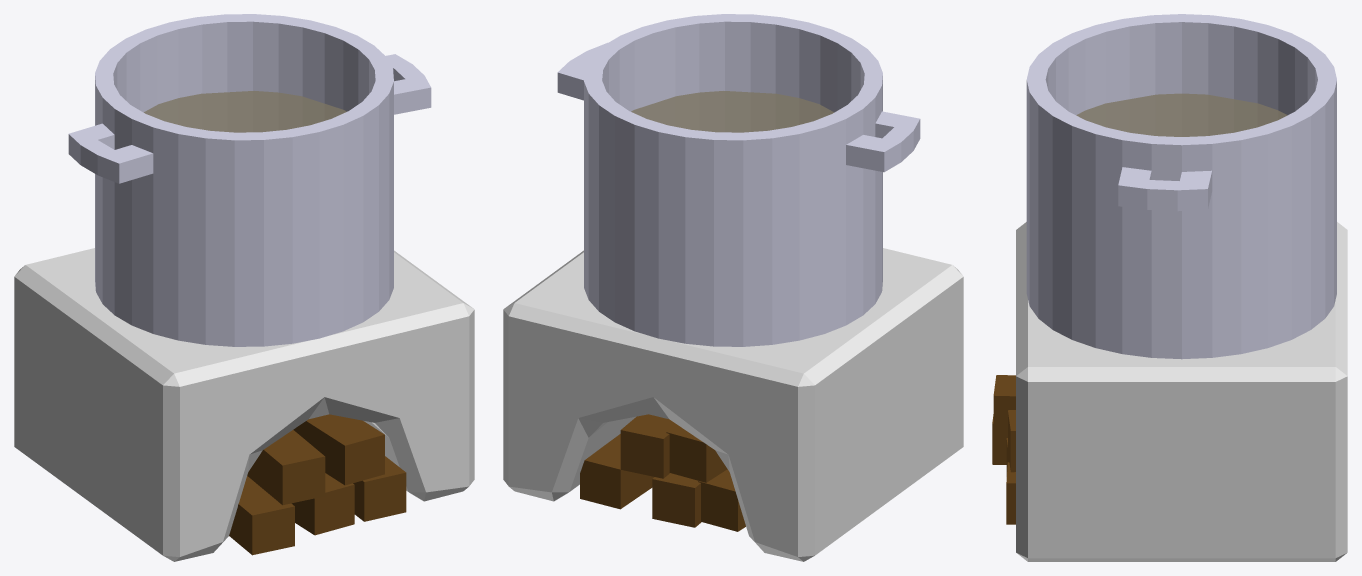
Rendered from soup.fbx.
3 renders of one model, left to right at view 1: azimuth 30°, elevation 25°; view 2: azimuth 150°, elevation 25°; view 3: azimuth 270°, elevation 25°, orthographic. The views are drawn at different scales.
Parts seen in each view (by area): view 1: Cylinder, Cube, Plane, Cube.005, Cube.004, Cube.001, Cube.002, Cube.003; view 2: Cylinder, Cube, Plane, Cube.003, Cube.005, Cube.002, Cube.004, Cube.001; view 3: Cylinder, Cube, Plane, Cube.004, Cube.003, Cube.005, Cube.001.
Boxes of the visible parts, bbox=[...] form: Cylinder: bbox=[68, 14, 431, 346]; Cube: bbox=[14, 248, 474, 561]; Plane: bbox=[144, 91, 346, 132]; Cube.005: bbox=[293, 414, 384, 485]; Cube.004: bbox=[247, 430, 325, 505]; Cube.001: bbox=[229, 476, 294, 555]; Cube.002: bbox=[291, 473, 354, 535]; Cube.003: bbox=[353, 456, 406, 521]; Cylinder: bbox=[557, 14, 920, 346]; Cube: bbox=[503, 248, 963, 561]; Plane: bbox=[631, 91, 833, 132]; Cube.003: bbox=[580, 434, 654, 509]; Cube.005: bbox=[620, 414, 677, 478]; Cube.002: bbox=[652, 473, 701, 527]; Cube.004: bbox=[666, 425, 727, 482]; Cube.001: bbox=[698, 469, 745, 531]; Cylinder: bbox=[1026, 14, 1336, 359]; Cube: bbox=[1016, 222, 1347, 561]; Plane: bbox=[1076, 93, 1287, 136]; Cube.004: bbox=[993, 375, 1015, 437]; Cube.003: bbox=[1006, 462, 1015, 524]; Cube.005: bbox=[1008, 410, 1015, 472]; Cube.001: bbox=[992, 414, 1007, 464].
Size of what is drawn, in the model's own units: 520 by 592 by 466.
